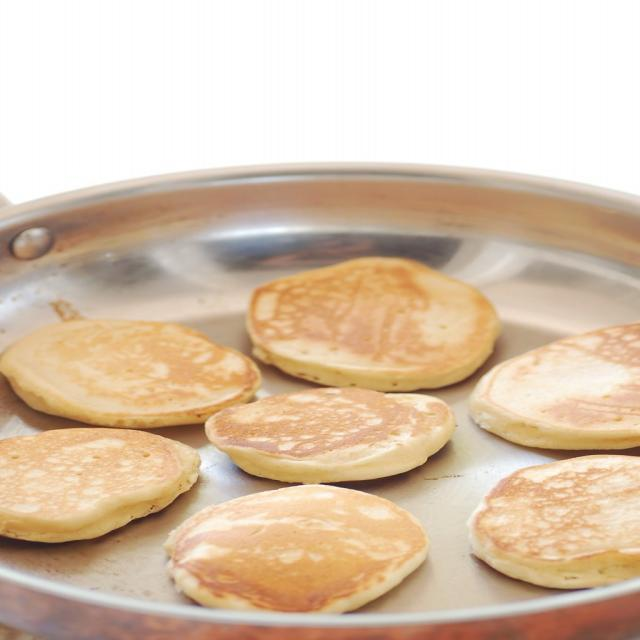Pancake: (246, 257, 500, 392), (0, 302, 258, 423), (205, 390, 455, 484), (0, 427, 197, 543), (468, 454, 640, 585), (469, 325, 639, 451)
